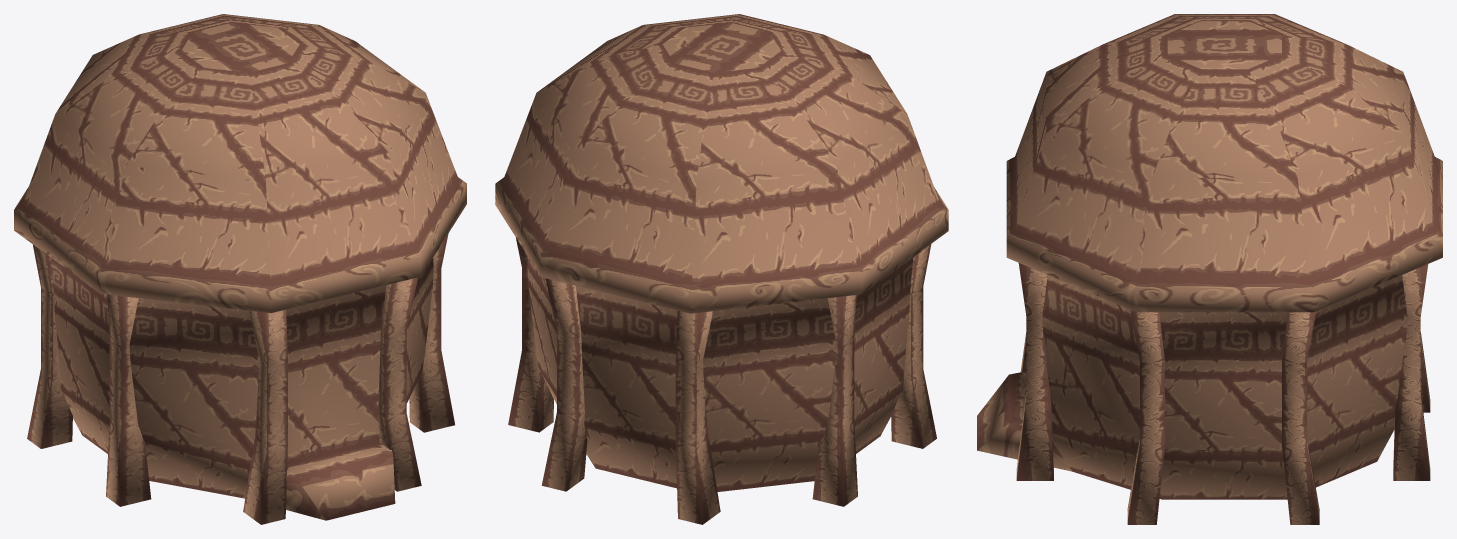
The model's file is environment test 2.fbx.
3 renders of one model, left to right at view 1: azimuth 30°, elevation 25°; view 2: azimuth 150°, elevation 25°; view 3: azimuth 270°, elevation 25°, orthographic. The views are drawn at different scales.
Visible parts, largest first — view 1: Cube.030, Cube.031; view 2: Cube.030, Cube.031; view 3: Cube.030, Cube.031.
Boxes of the visible parts, x1,y1,x2,y2 form: Cube.030: (14, 14, 466, 520); Cube.031: (27, 234, 454, 524); Cube.030: (495, 14, 948, 491); Cube.031: (508, 238, 936, 524); Cube.030: (977, 14, 1442, 499); Cube.031: (1016, 263, 1430, 524).
Size of what is drawn, in the model's own units: 1693 by 1694 by 1808.
